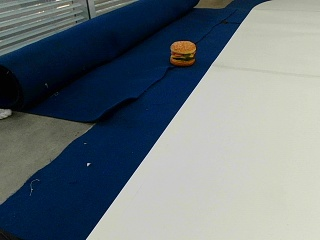burger: (169, 39, 195, 64)
